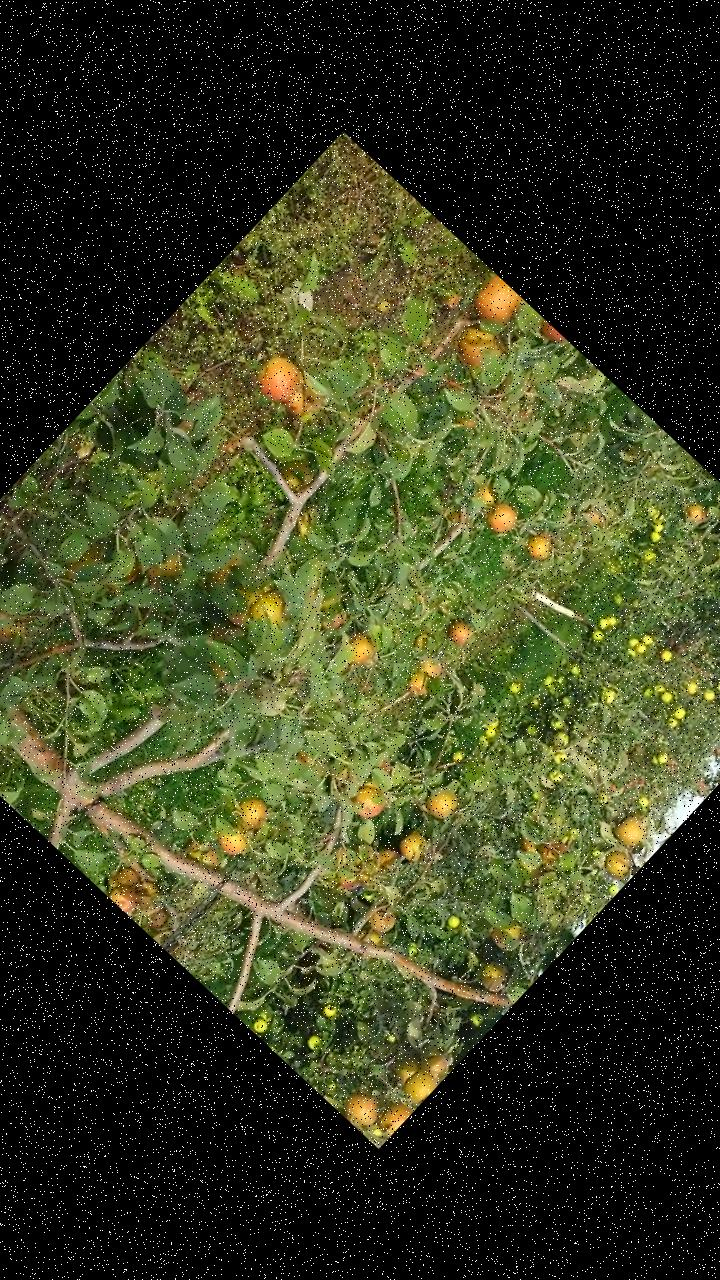Apple: (444, 312, 512, 380), (465, 274, 527, 336), (248, 348, 308, 408), (214, 574, 274, 633), (200, 650, 254, 703), (247, 585, 298, 637), (197, 546, 248, 598), (336, 1082, 387, 1132), (332, 625, 382, 676), (279, 374, 328, 424), (273, 449, 321, 497), (99, 859, 145, 905), (62, 541, 108, 587), (368, 1093, 412, 1139), (120, 558, 166, 602), (609, 808, 653, 853), (473, 954, 517, 999), (232, 792, 277, 836), (478, 496, 523, 540), (396, 1064, 440, 1108), (485, 912, 529, 956), (346, 780, 390, 824), (530, 829, 573, 872), (420, 781, 463, 824), (182, 836, 226, 878), (149, 544, 191, 587), (212, 820, 255, 861), (597, 844, 638, 886), (414, 1046, 456, 1086), (392, 828, 432, 868), (344, 840, 384, 879), (387, 1048, 424, 1086), (365, 900, 402, 938), (349, 856, 386, 894), (127, 874, 164, 912), (521, 528, 558, 565), (353, 920, 391, 956), (324, 842, 362, 878), (468, 480, 504, 516), (108, 881, 144, 916), (402, 666, 437, 701), (414, 648, 449, 682), (318, 605, 352, 639), (440, 616, 474, 649), (533, 316, 567, 349), (0, 610, 26, 652), (369, 840, 401, 873), (142, 901, 174, 934), (680, 497, 710, 527), (332, 868, 362, 898), (452, 405, 480, 432), (512, 832, 538, 858), (581, 503, 607, 529), (376, 756, 397, 778)
